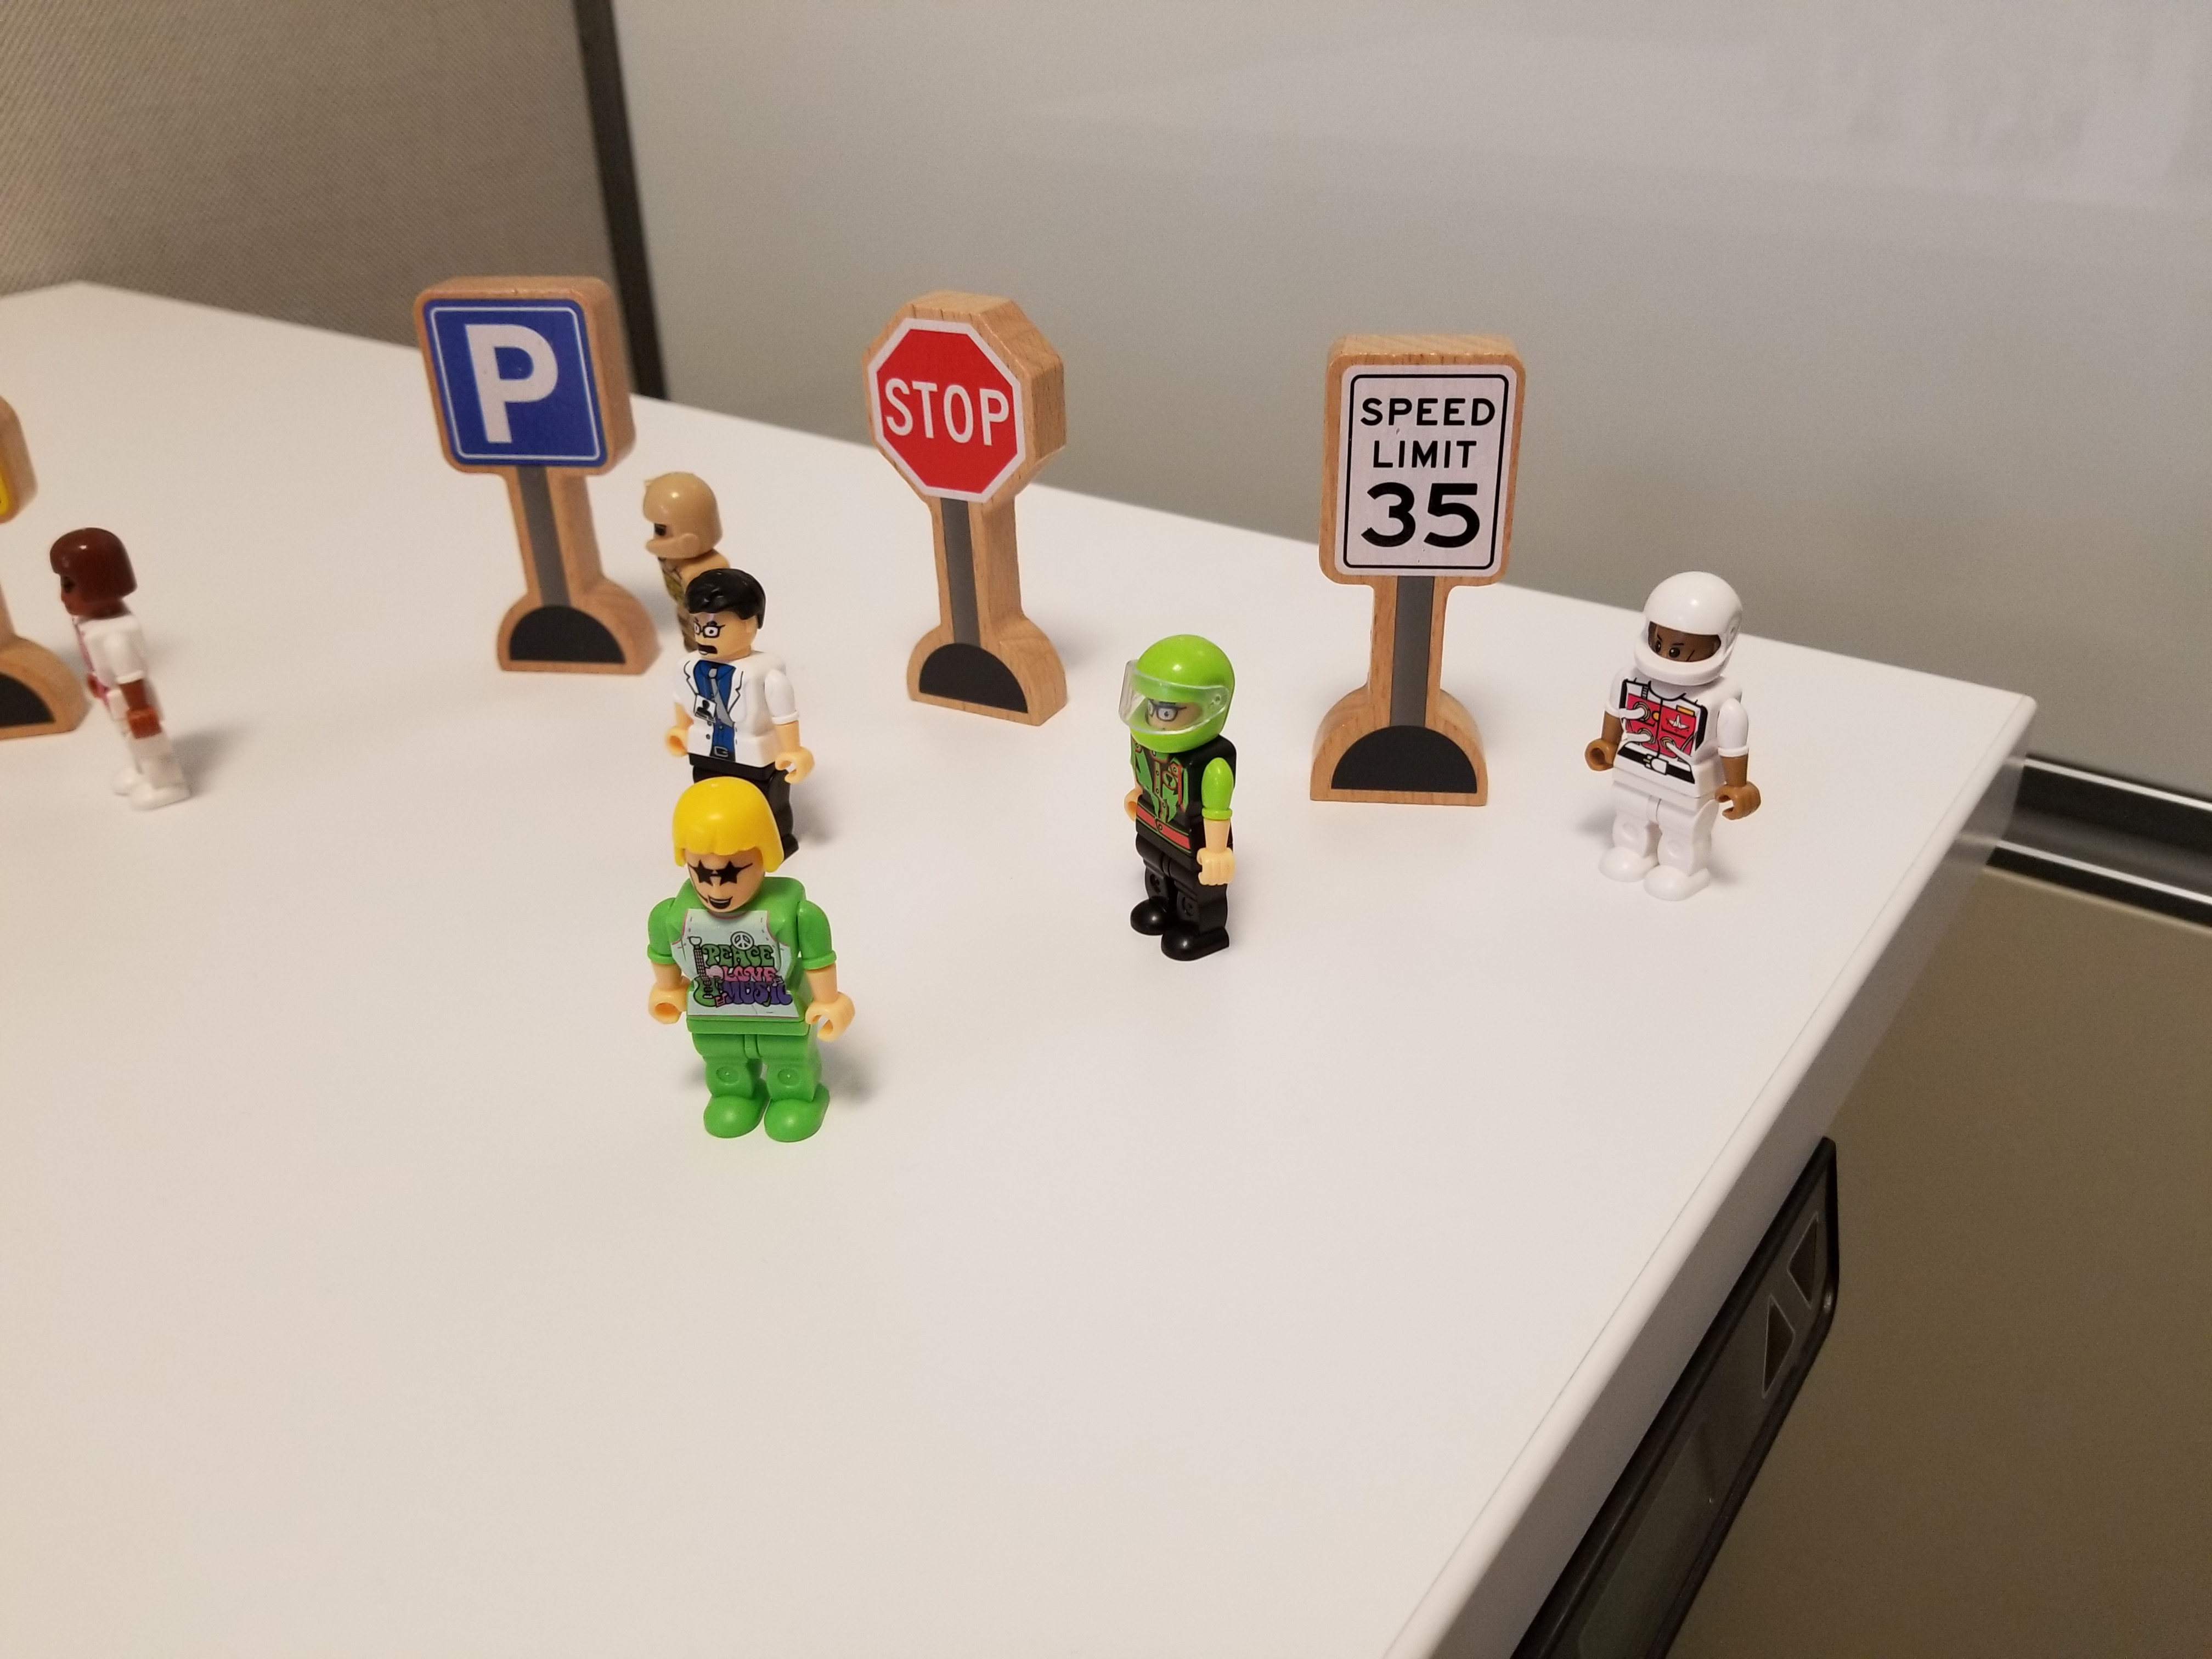Parking: (385, 247, 664, 673)
Speed limit 35: (1300, 297, 1535, 828)
Stop: (859, 267, 1101, 749)
person: (620, 778, 870, 1140), (32, 526, 249, 846), (1581, 550, 1772, 896), (1109, 629, 1263, 964), (640, 572, 822, 778), (631, 466, 727, 572)
